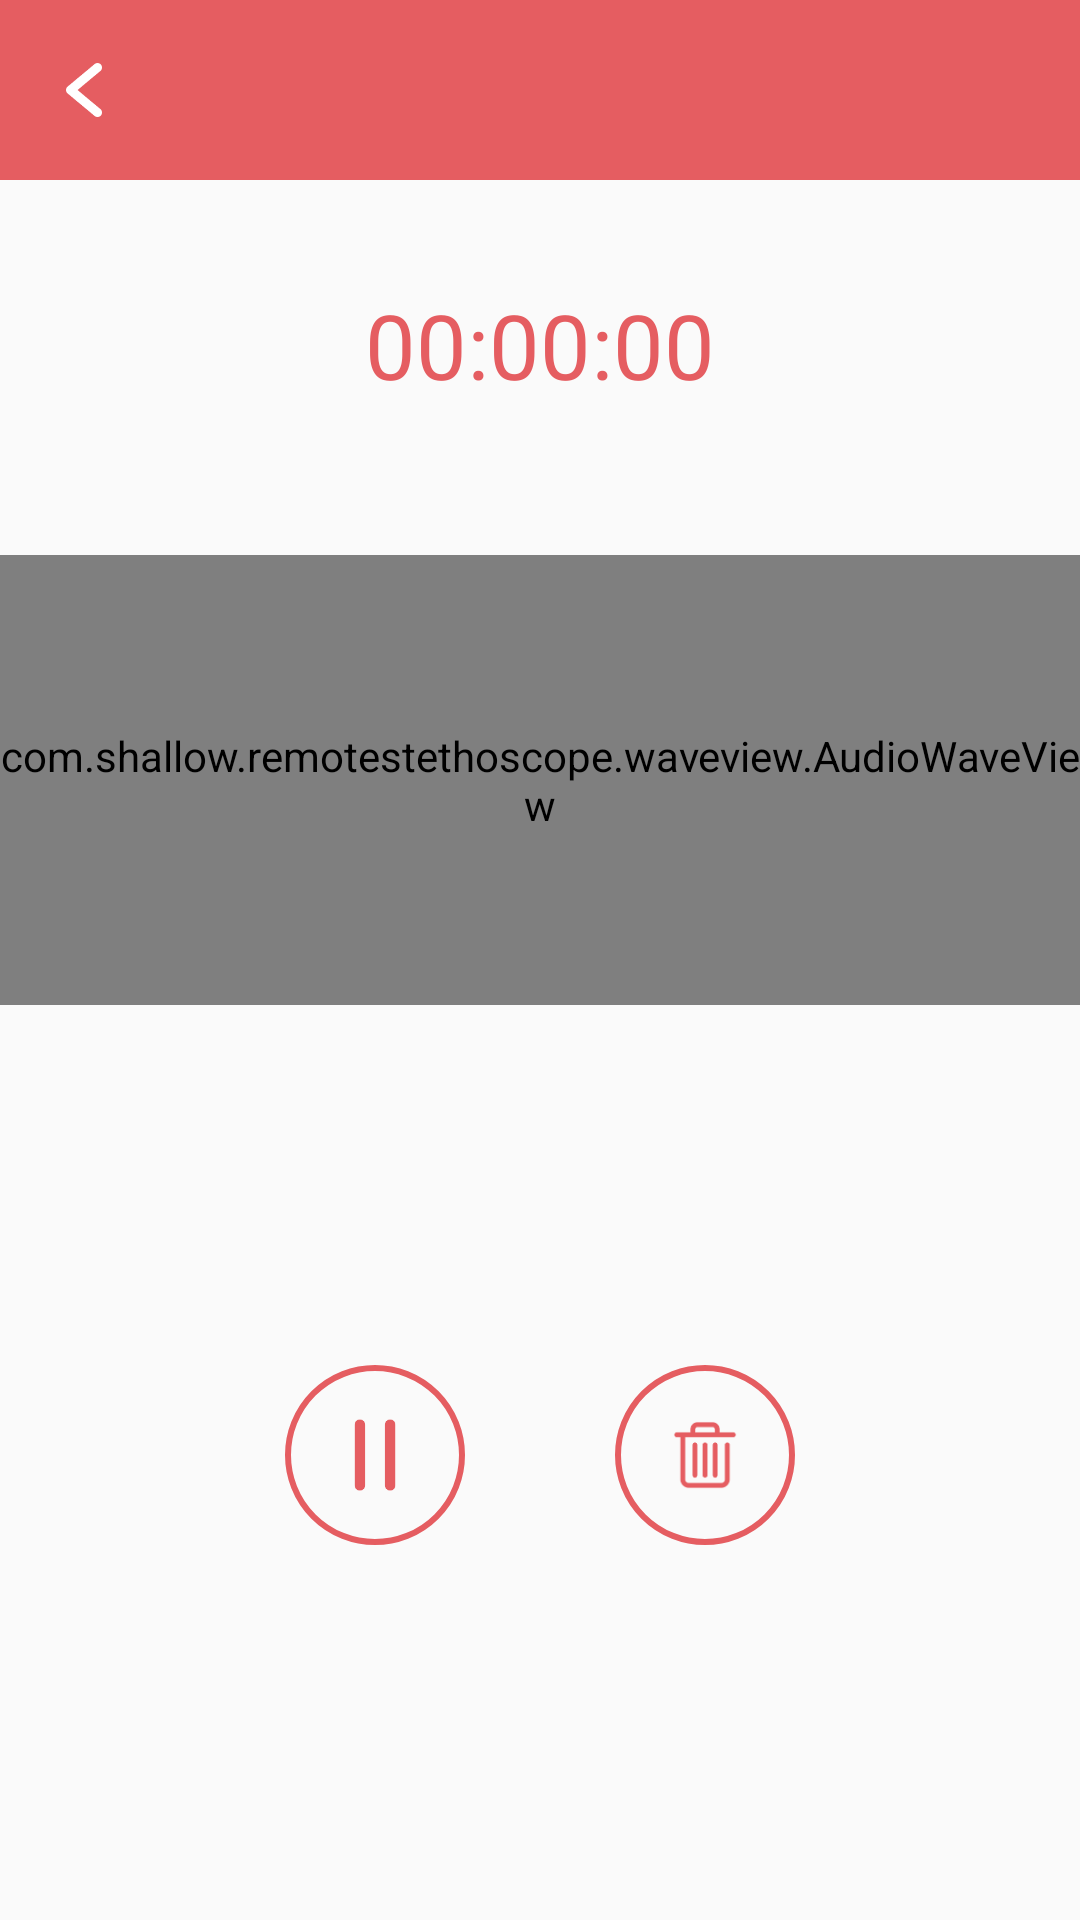

Locate icon controls on the screen. Image size 1080w x 1920h, boxes as (x1, y1, x2, y2).
pause: (285, 1365, 465, 1545)
trash: (615, 1365, 795, 1545)
